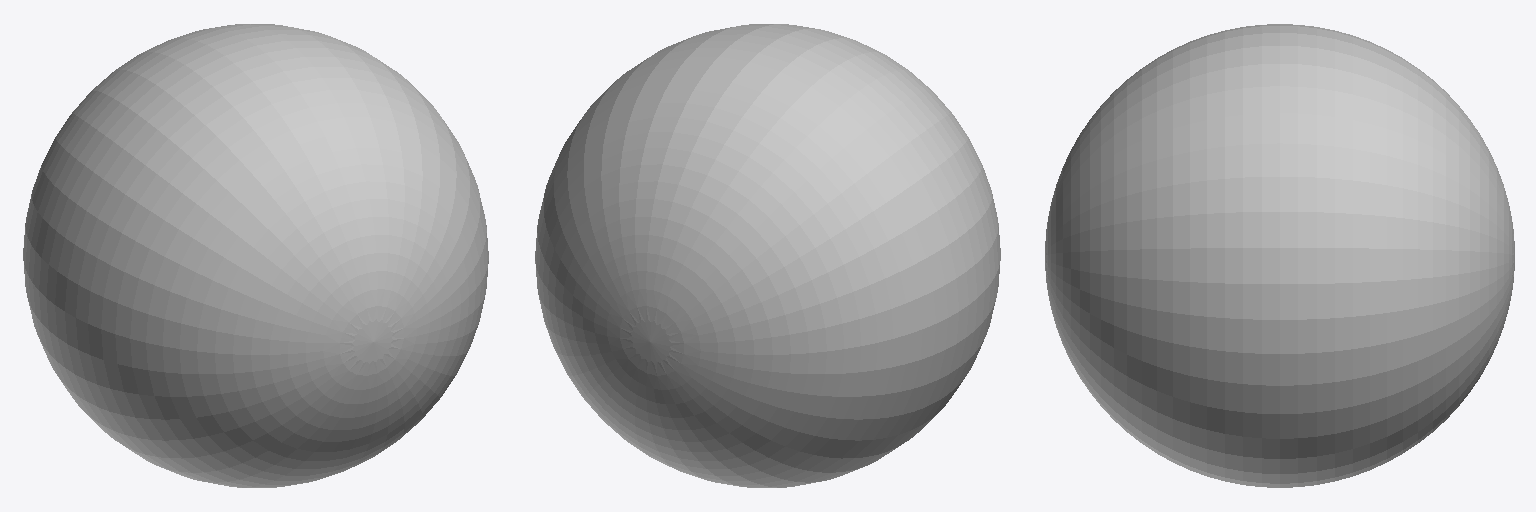
Rendered from pelota.obj.
The picture shows the model from 3 angles: view 1: azimuth 30°, elevation 25°; view 2: azimuth 150°, elevation 25°; view 3: azimuth 270°, elevation 25°; orthographic projection.
Parts seen in each view (by area): view 1: pSphere1; view 2: pSphere1; view 3: pSphere1.
Part boxes in pixels (bbox=[...]): pSphere1: bbox=[23, 24, 488, 487]; pSphere1: bbox=[535, 24, 1000, 487]; pSphere1: bbox=[1045, 24, 1514, 487].
Size of the model in its own units: 8.09 by 8.09 by 8.21.